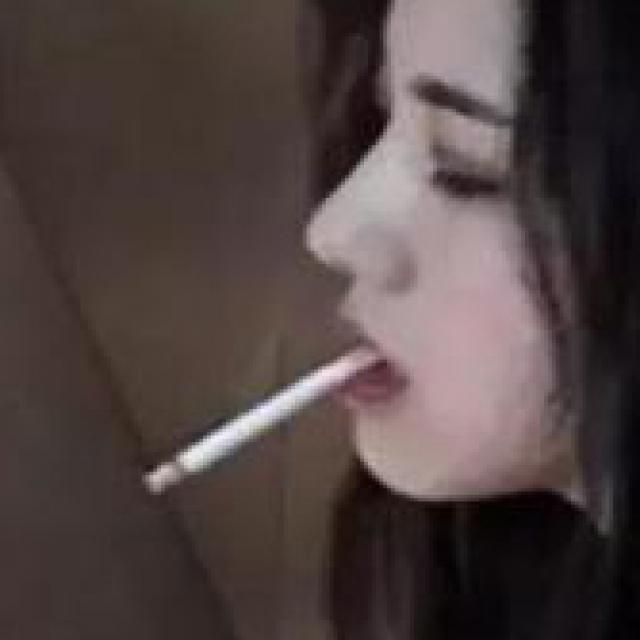smoking: (143, 347, 379, 496)
